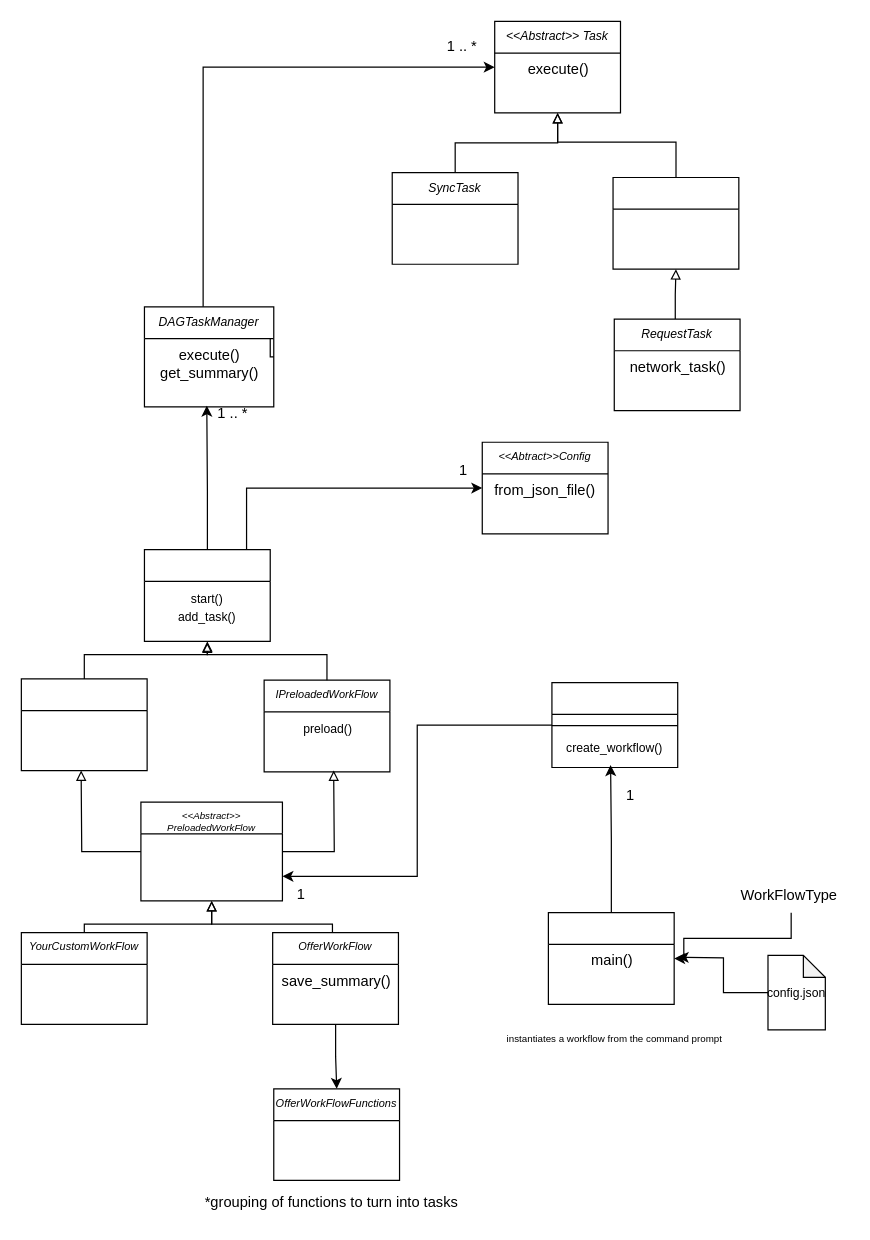
Image size: 870x1240. Some labels were removed from this diagram. Here are the shapes that lost their labels. From the top down, the box of each, then its label:
(612, 176, 739, 269): AsyncTask
(143, 549, 270, 641): IWorkFlow
(20, 678, 147, 771): BasicWorkFlow
(551, 681, 678, 768): WorkFlowFactory
(547, 911, 674, 1004): run_workflow.py
